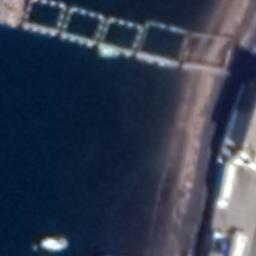square_solid: (137, 18, 187, 68), (97, 15, 145, 61), (61, 6, 109, 50), (20, 1, 69, 41)
